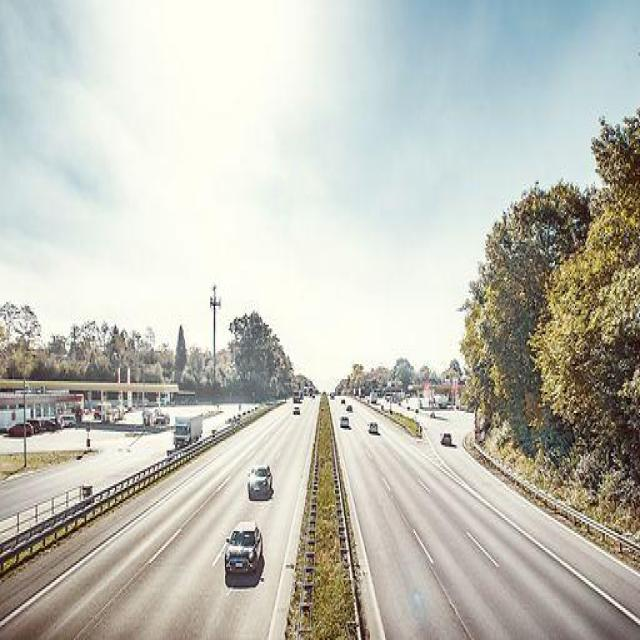car: (221, 522, 266, 584), (168, 411, 207, 452), (244, 458, 278, 502), (438, 426, 464, 455), (362, 417, 382, 441), (339, 416, 355, 436), (337, 394, 349, 412)
